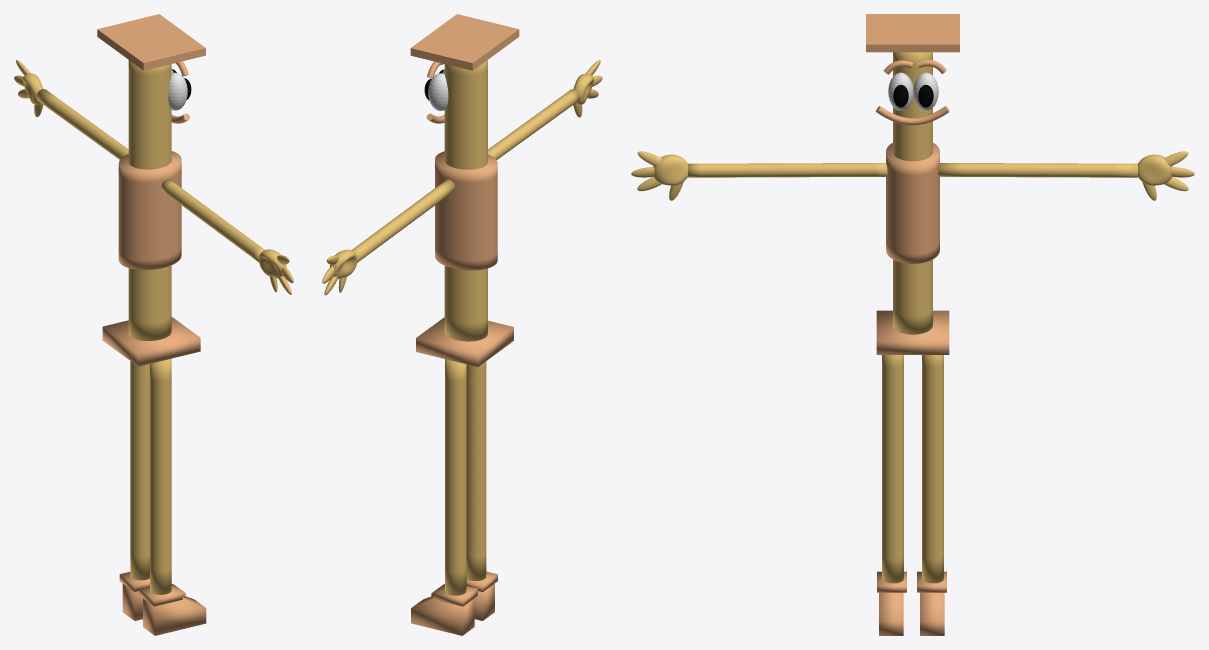
File: ETAI FINAL .fbx
3 views of the same model, side by side, from view 1: azimuth 30°, elevation 25°; view 2: azimuth 150°, elevation 25°; view 3: azimuth 270°, elevation 25° (orthographic).
Parts seen in each view (by area): view 1: Cylinder.003, Cylinder.001, Cylinder.002, Cylinder.011, Cube.002, Cube.001, Cube.004, Cube.012, Sphere, Cube.003; view 2: Cylinder.003, Cylinder.001, Cylinder.002, Cylinder.011, Cube.002, Cube.001, Cube.012, Sphere.002, Cube.004, Cube.005; view 3: Cylinder.003, Cylinder.011, Cylinder.002, Cylinder.001, Cube.002, Cube.001, Cube.012, Cube.004.
Part boxes in pixels (x1,y1,x2,y2): Cylinder.003: [130, 358, 171, 594]; Cylinder.001: [128, 60, 171, 340]; Cylinder.002: [118, 151, 181, 269]; Cylinder.011: [14, 60, 293, 294]; Cube.002: [97, 14, 205, 70]; Cube.001: [102, 317, 200, 366]; Cube.004: [143, 595, 206, 635]; Cube.012: [122, 584, 185, 620]; Sphere: [168, 72, 187, 110]; Cube.003: [139, 585, 182, 606]; Cylinder.003: [445, 359, 486, 595]; Cylinder.001: [444, 60, 487, 341]; Cylinder.002: [435, 151, 497, 270]; Cylinder.011: [322, 60, 602, 295]; Cube.002: [410, 14, 519, 70]; Cube.001: [416, 317, 513, 366]; Cube.012: [411, 595, 474, 635]; Sphere.002: [428, 73, 448, 110]; Cube.004: [431, 583, 494, 620]; Cube.005: [434, 585, 477, 606]; Cylinder.003: [882, 355, 943, 583]; Cylinder.011: [631, 151, 1194, 200]; Cylinder.002: [886, 143, 939, 263]; Cylinder.001: [893, 52, 932, 334]; Cube.002: [866, 14, 959, 52]; Cube.001: [876, 310, 949, 354]; Cube.012: [920, 592, 944, 635]; Cube.004: [879, 592, 903, 635].
Size of the model in its own units: 124 by 995 by 864.
